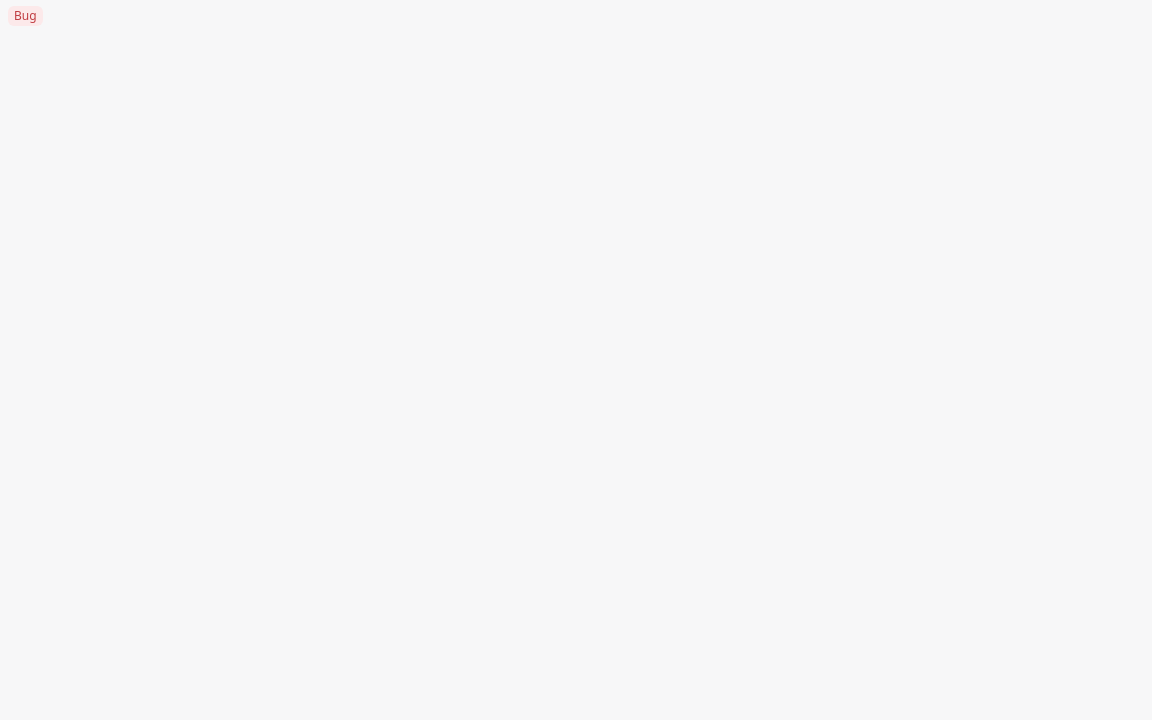
Test: LabelField › toggles a label on and off from the checkbox list
Later steps or results of the test are not shown.
Click the button "Bug" at coordinates (28, 26), box [0, 0, 1151, 32]
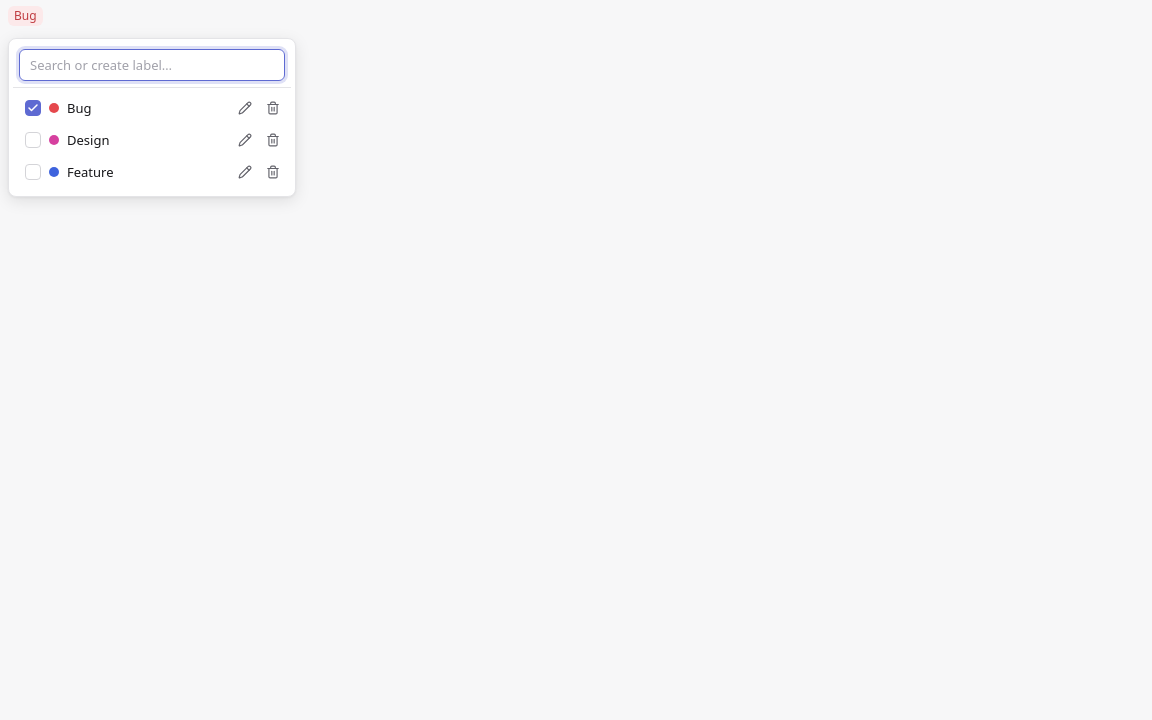
Check: the checkbox labelled "Bug" is checked, box [25, 100, 41, 116]
Check: the checkbox labelled "Design" is not checked, box [25, 132, 41, 148]
